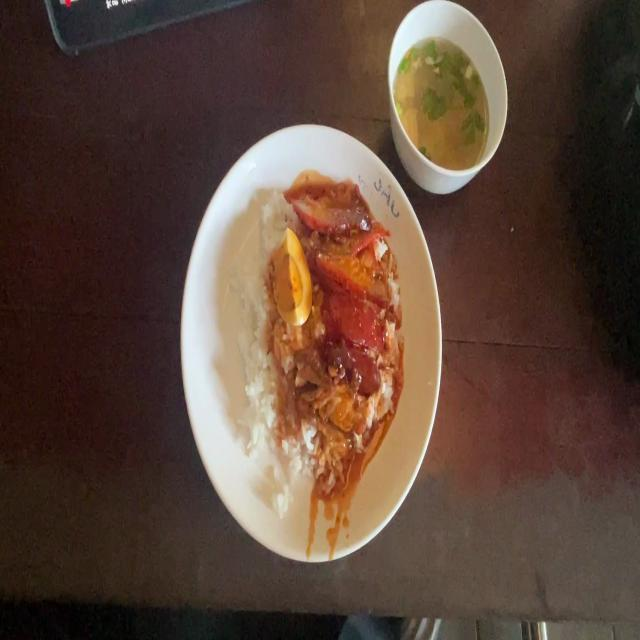red_pork_and_crispy_pork: (278, 232, 311, 323)
stir_fried_basil: (323, 299, 386, 392), (326, 302, 388, 346), (331, 350, 382, 380)
